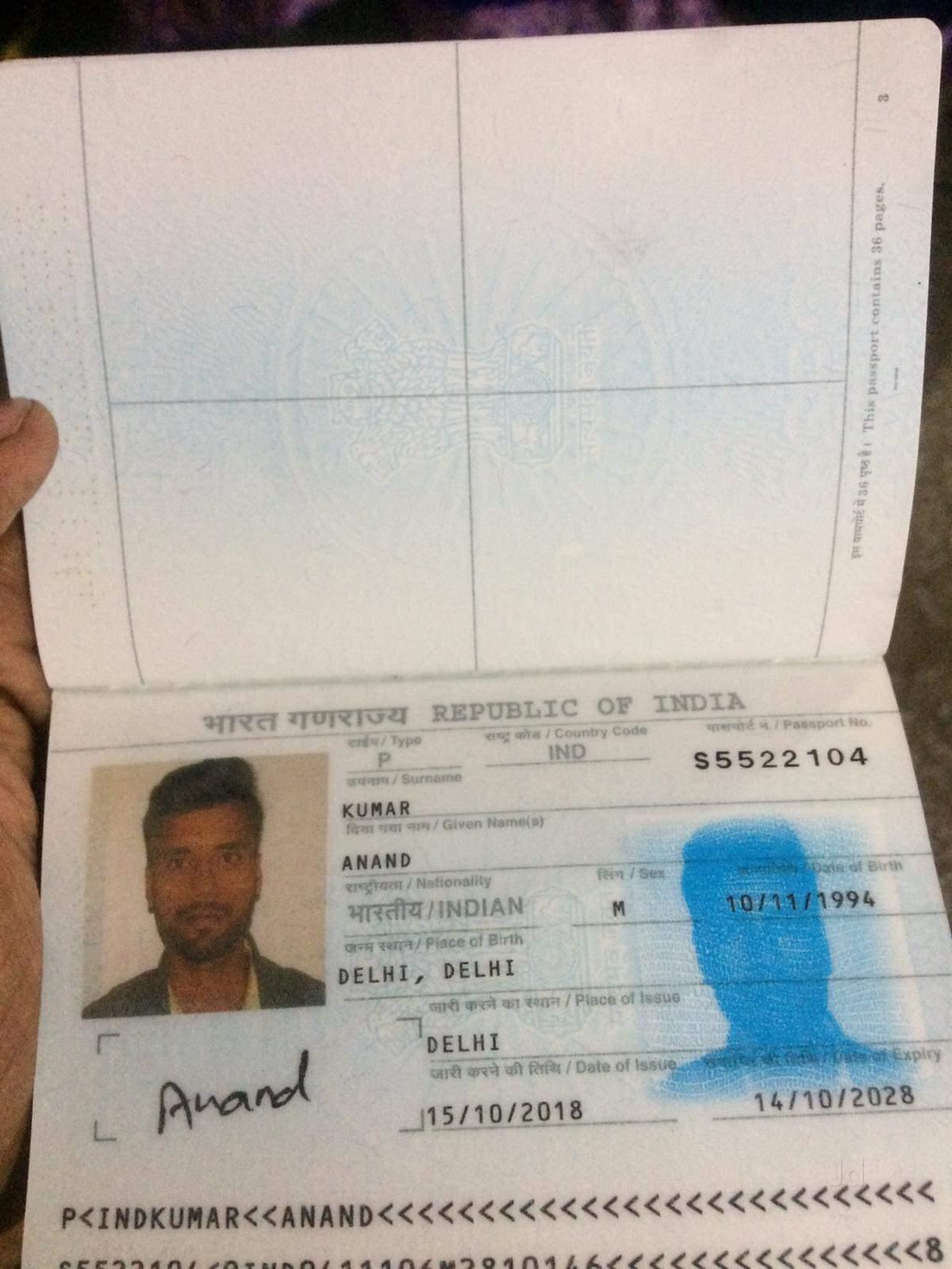DOB: (714, 883, 917, 921)
Surname: (335, 789, 428, 824)
country_code: (536, 736, 598, 772)
date_of_expiry: (743, 1074, 924, 1120)
date_of_issue: (420, 1091, 613, 1135)
name: (333, 845, 426, 876)
nationality: (341, 894, 538, 930)
passport_no: (688, 740, 891, 781)
photo: (89, 761, 323, 1013)
place_of_birth: (329, 953, 541, 991)
place_of_issue: (420, 1024, 512, 1065)
sex: (597, 889, 639, 925)
sign: (133, 1040, 340, 1138)
type: (367, 743, 399, 775)
